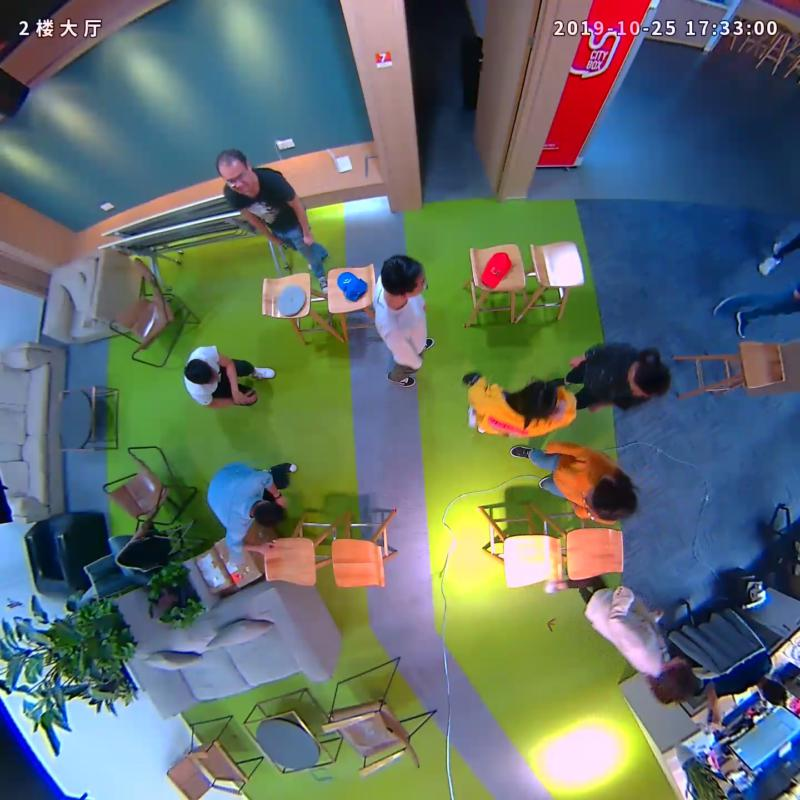head: (370, 249, 437, 312), (642, 647, 704, 706), (620, 343, 676, 407), (584, 469, 642, 527), (510, 371, 563, 423), (212, 146, 258, 194), (243, 495, 292, 531), (178, 351, 217, 389)
